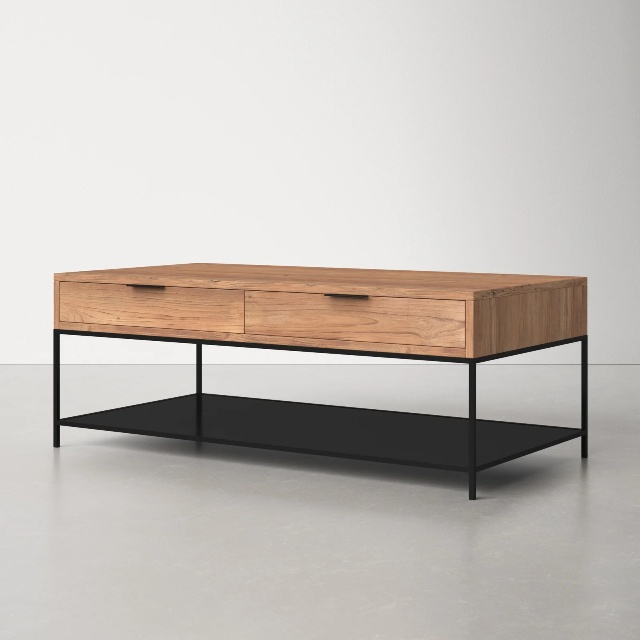obstacle: (53, 263, 588, 499)
